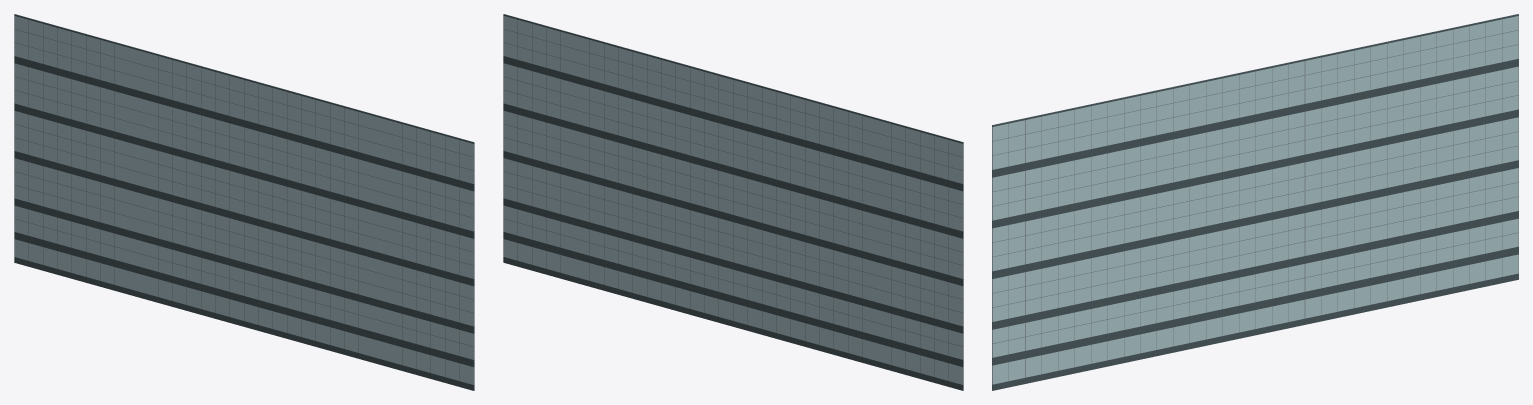
The model's file is G7_MiddleExteriorSkin_E13_r001.glb.
3 renders of one model, left to right at view 1: azimuth 30°, elevation 25°; view 2: azimuth 210°, elevation 25°; view 3: azimuth 270°, elevation 25°, orthographic. The views are drawn at different scales.
Visible parts, largest first — view 1: G7_MiddleSkin_E13_glazing, G7_MiddleSkin_E13_spandrel, G7_MiddleSkin_E13_joint; view 2: G7_MiddleSkin_E13_glazing, G7_MiddleSkin_E13_spandrel, G7_MiddleSkin_E13_joint; view 3: G7_MiddleSkin_E13_glazing, G7_MiddleSkin_E13_spandrel, G7_MiddleSkin_E13_joint.
Part boxes in pixels (x1,y1,x2,y2): G7_MiddleSkin_E13_glazing: [14, 16, 473, 384]; G7_MiddleSkin_E13_spandrel: [14, 14, 474, 390]; G7_MiddleSkin_E13_joint: [14, 16, 474, 384]; G7_MiddleSkin_E13_glazing: [503, 16, 962, 384]; G7_MiddleSkin_E13_spandrel: [503, 14, 963, 390]; G7_MiddleSkin_E13_joint: [503, 16, 963, 384]; G7_MiddleSkin_E13_glazing: [992, 16, 1518, 384]; G7_MiddleSkin_E13_spandrel: [992, 14, 1518, 390]; G7_MiddleSkin_E13_joint: [992, 16, 1518, 384].
Size of the model in its own units: 40.12 by 44.5 by 80.03.
Materials: 3 (2 with a texture image).
